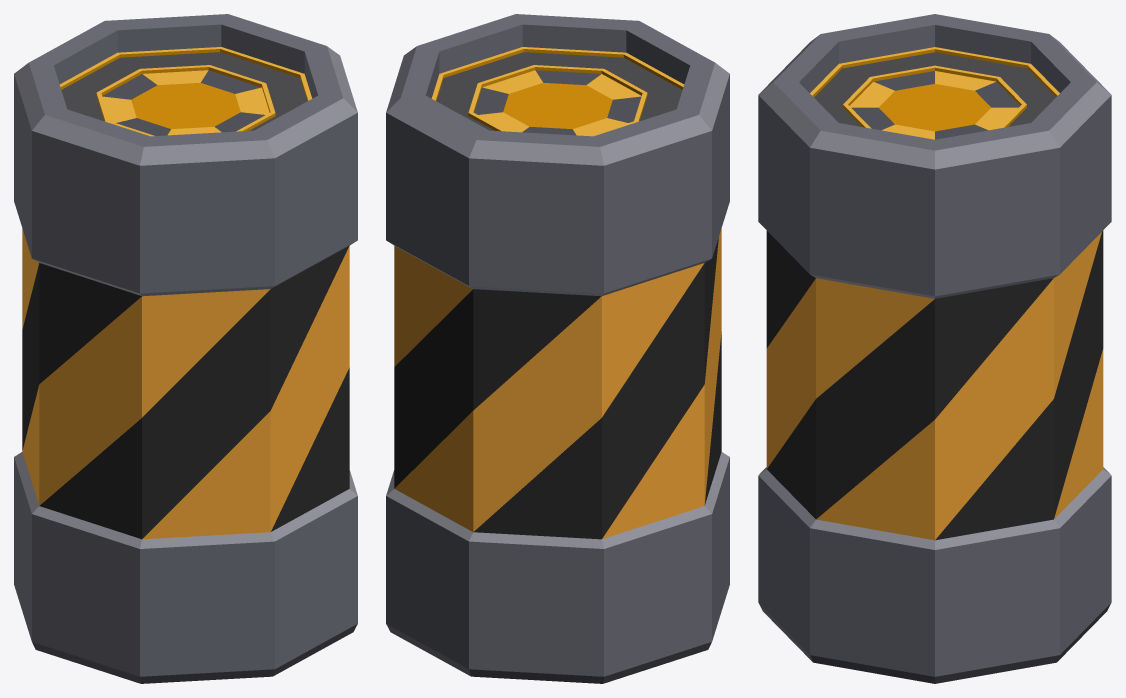
Rendered from ContainerSmall_01.glb.
The picture shows the model from 3 angles, left to right: view 1: azimuth 30°, elevation 25°; view 2: azimuth 150°, elevation 25°; view 3: azimuth 270°, elevation 25°; orthographic projection.
Visible parts, largest first — view 1: ContainerSmall_01; view 2: ContainerSmall_01; view 3: ContainerSmall_01.
Boxes of the visible parts, bbox=[...] form: ContainerSmall_01: bbox=[14, 14, 357, 683]; ContainerSmall_01: bbox=[386, 14, 729, 683]; ContainerSmall_01: bbox=[758, 14, 1111, 683].
Size of what is drawn, in the model's own units: 0.1862 by 0.3095 by 0.1862.
1 material, 1 textured.
